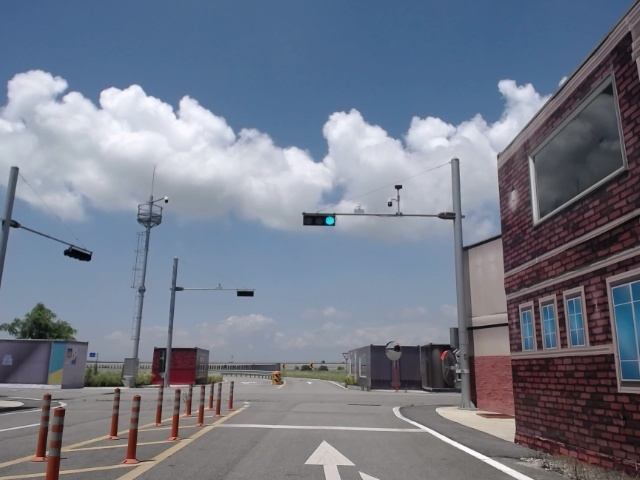green_3: (304, 214, 335, 225)
